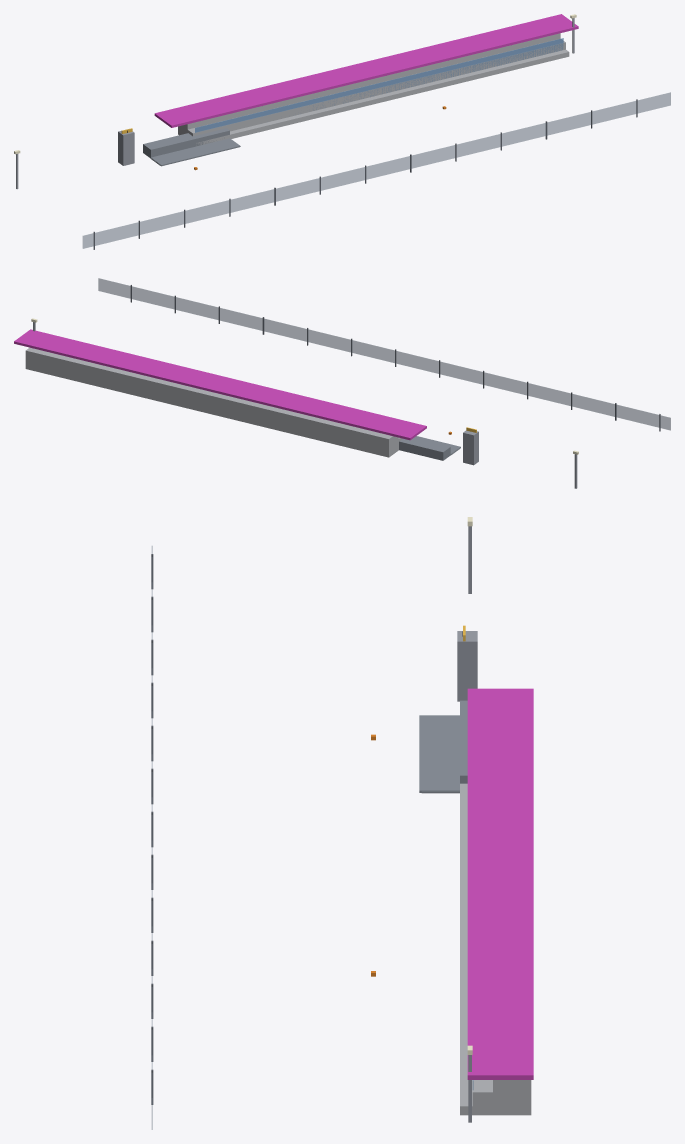
File: venue_3.obj
3 renders of one model, top to bottom at view 1: azimuth 30°, elevation 25°; view 2: azimuth 150°, elevation 25°; view 3: azimuth 270°, elevation 25°, orthographic. The views are drawn at different scales.
Bounding box in the file's own units: 520 × 32 × 150.
